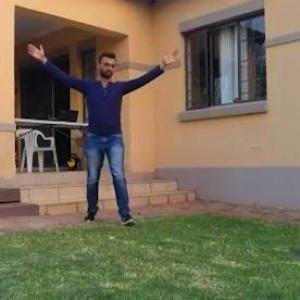takeoff: (46, 30, 204, 232)
